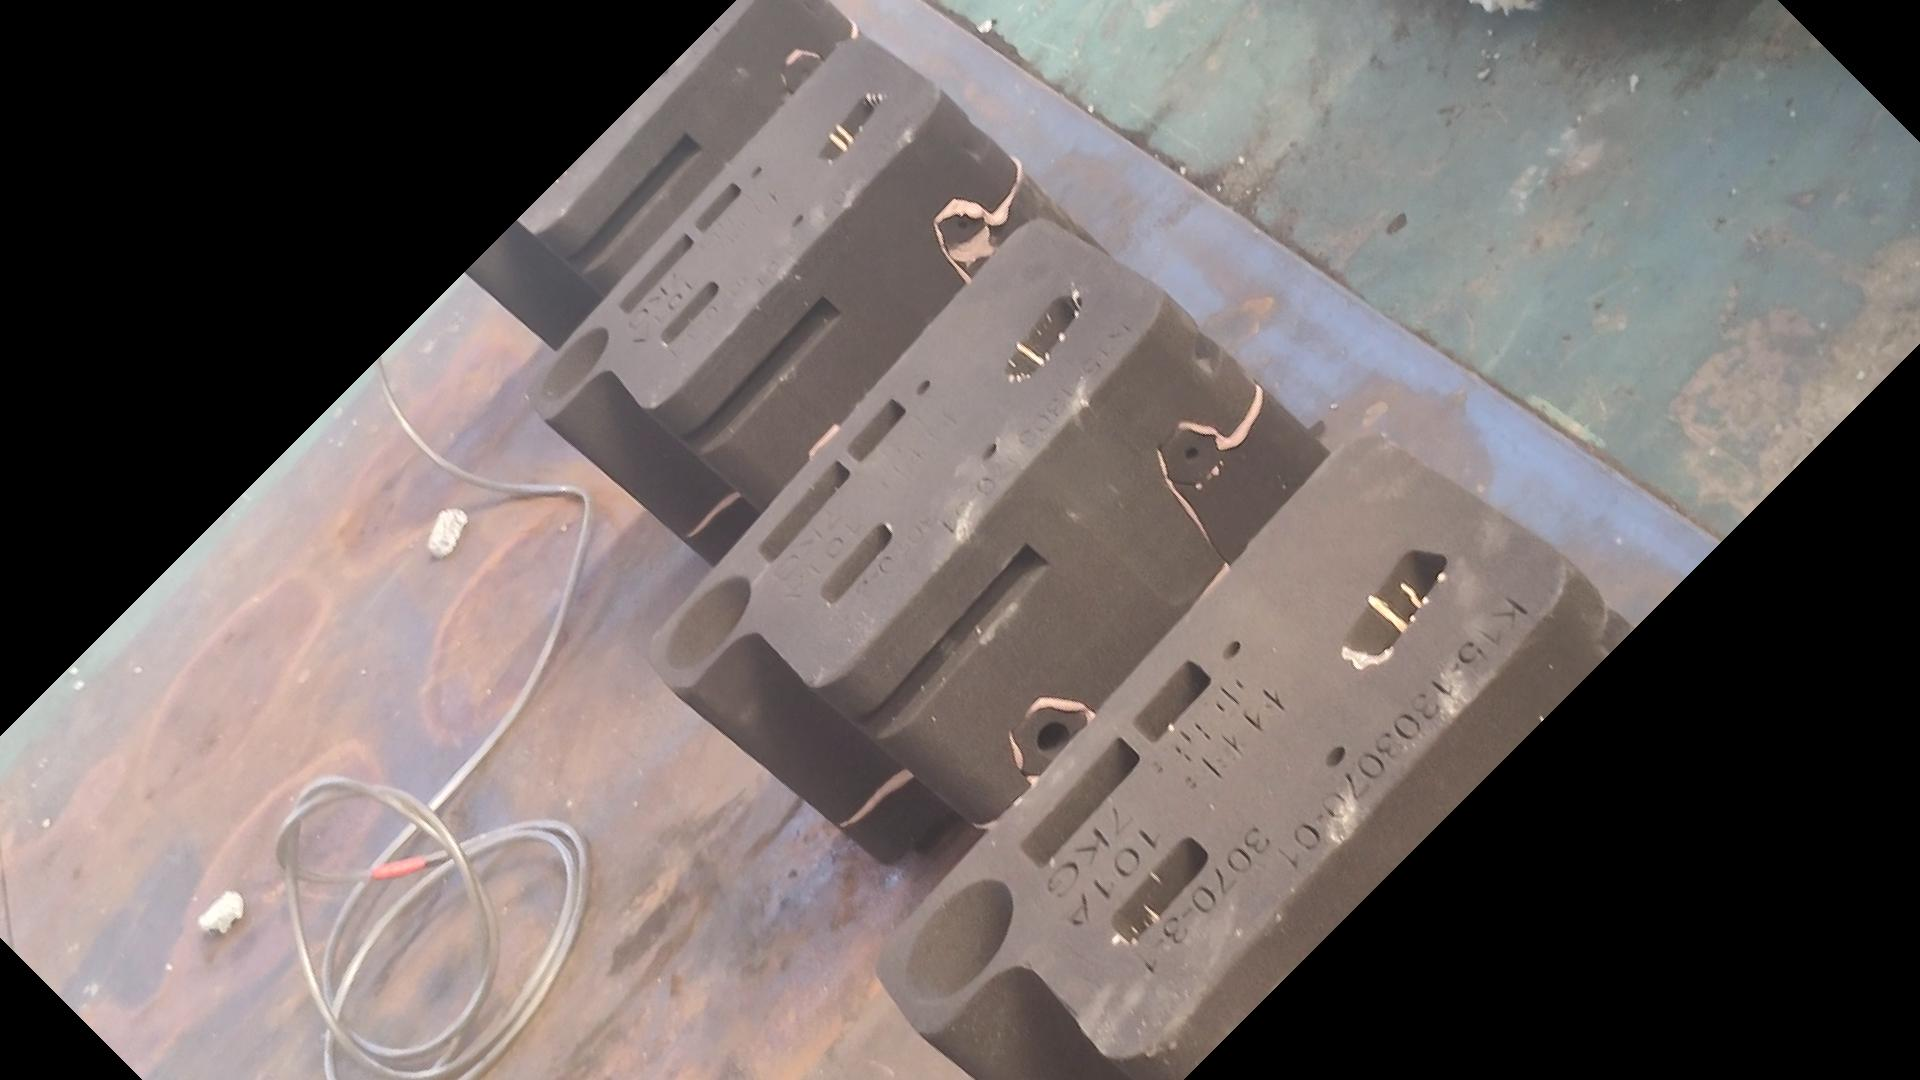pouring hole: (902, 880, 1013, 1001), (665, 574, 752, 670), (538, 326, 608, 405)
